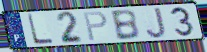2: (56, 11, 85, 46)
3: (169, 5, 196, 39)
B: (109, 8, 142, 42)
J: (145, 7, 168, 40)
L: (26, 13, 55, 46)
P: (82, 10, 109, 42)
